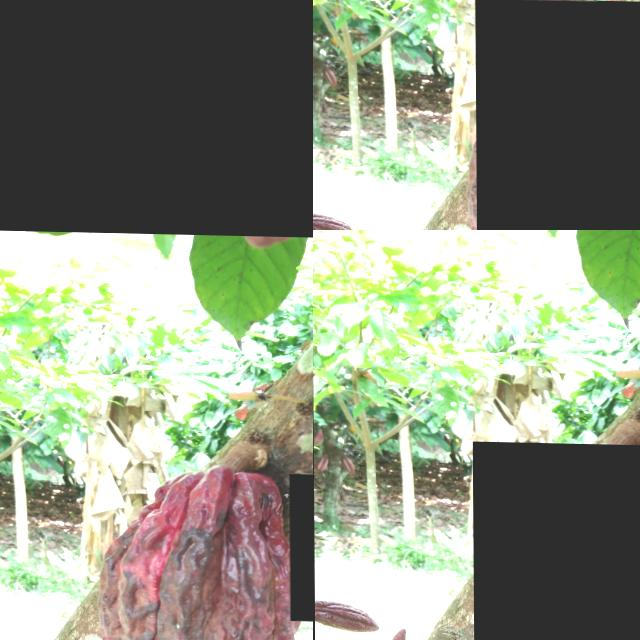Fitoftora: (0, 0, 313, 230), (475, 0, 640, 230), (472, 440, 640, 640), (289, 471, 313, 621)
Sana: (315, 596, 380, 637), (374, 626, 408, 640)
